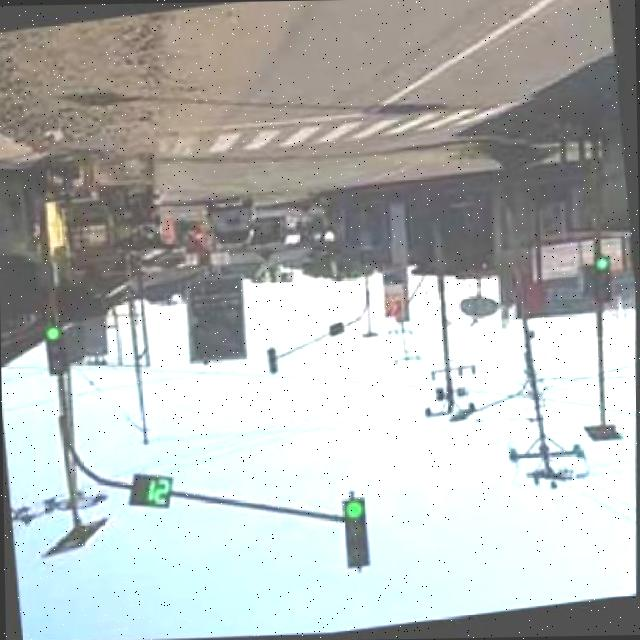green_light: (318, 479, 392, 588), (103, 456, 186, 528), (576, 228, 626, 328), (26, 317, 74, 407)
